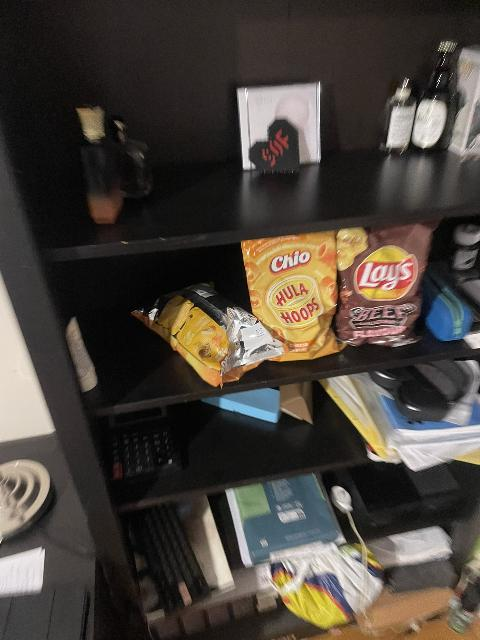Chio Cascaval 125g: (135, 281, 287, 396)
Chio Hula Hoops Cheese 70g: (240, 231, 342, 359)
Lays Beef Grilled Ribs 125g: (333, 222, 435, 344)
